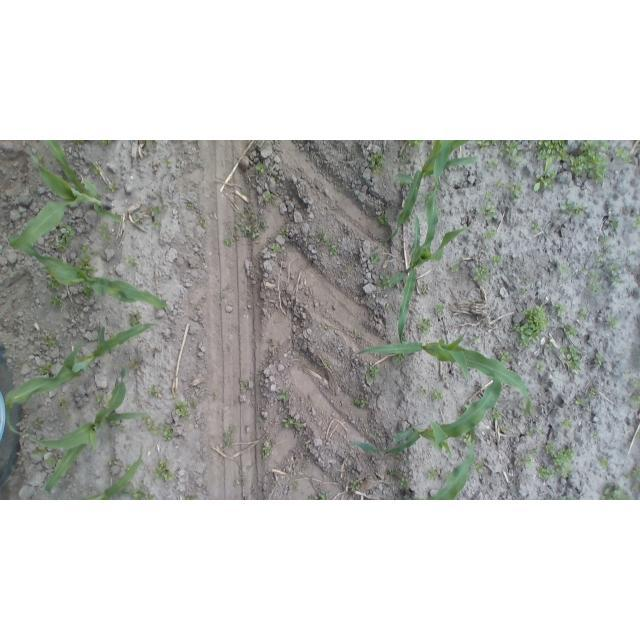Maize: (23, 360, 154, 496), (4, 323, 158, 433), (390, 141, 471, 348), (356, 333, 533, 419), (353, 362, 508, 456), (11, 141, 125, 248), (17, 234, 168, 309), (384, 141, 476, 244), (409, 428, 478, 500), (67, 441, 145, 499)
Weeds: (571, 141, 610, 184), (514, 306, 549, 346), (232, 202, 265, 241), (534, 160, 558, 192), (553, 447, 576, 478), (537, 141, 568, 162), (385, 466, 409, 489), (57, 224, 76, 253), (594, 234, 611, 266), (563, 344, 581, 372), (602, 484, 634, 499), (560, 201, 588, 218), (506, 141, 522, 168), (154, 460, 174, 481), (131, 485, 153, 500), (587, 272, 601, 294), (518, 451, 536, 468), (472, 266, 490, 283), (77, 256, 96, 272), (616, 148, 633, 164), (316, 228, 331, 246), (225, 425, 236, 449), (372, 152, 385, 172), (626, 391, 640, 409), (366, 365, 381, 381), (351, 326, 366, 342), (262, 189, 278, 204), (175, 402, 190, 418), (537, 466, 555, 479), (418, 317, 432, 333), (300, 438, 311, 458), (30, 444, 48, 456), (380, 274, 395, 288), (564, 322, 579, 336), (127, 358, 141, 373), (407, 141, 426, 152), (401, 489, 420, 500), (510, 182, 522, 199), (42, 334, 56, 348), (605, 316, 620, 329), (553, 492, 577, 500), (306, 492, 330, 500), (232, 475, 246, 488), (482, 228, 497, 240), (149, 205, 164, 217), (38, 362, 53, 374), (416, 382, 427, 398), (163, 424, 174, 440), (97, 220, 110, 233), (554, 302, 567, 315), (46, 453, 59, 466), (499, 350, 512, 363), (484, 204, 496, 218), (129, 313, 141, 327), (239, 379, 250, 394), (283, 418, 299, 428), (32, 417, 45, 429), (493, 253, 504, 267), (379, 213, 390, 227), (147, 420, 158, 434), (262, 442, 271, 459), (472, 462, 484, 474), (590, 431, 603, 442), (495, 177, 506, 190), (421, 284, 432, 297), (354, 397, 367, 408), (427, 468, 438, 481), (632, 466, 640, 483), (477, 141, 492, 150), (492, 408, 503, 420), (524, 425, 535, 437), (484, 190, 496, 201), (246, 460, 257, 472), (433, 390, 444, 402), (149, 386, 161, 397), (152, 218, 163, 230), (486, 159, 498, 170), (543, 443, 555, 454), (133, 213, 143, 226), (146, 140, 159, 150), (595, 352, 605, 365), (280, 389, 290, 402), (579, 308, 589, 321), (322, 360, 333, 371), (599, 456, 610, 467), (610, 264, 621, 275), (289, 480, 299, 492), (609, 217, 619, 229), (434, 303, 444, 315), (347, 448, 356, 461), (117, 423, 128, 433), (52, 297, 63, 307), (305, 261, 317, 270), (386, 300, 395, 312), (560, 264, 569, 276), (574, 397, 586, 406), (400, 151, 408, 164), (212, 392, 220, 405), (64, 411, 72, 424), (125, 256, 135, 266), (271, 243, 281, 253), (48, 279, 58, 289), (59, 398, 69, 408), (350, 481, 360, 491), (462, 433, 471, 444), (518, 288, 529, 297), (257, 163, 266, 174), (92, 165, 101, 176), (621, 369, 631, 378), (523, 273, 532, 283), (333, 186, 342, 196), (96, 393, 105, 403), (47, 236, 57, 245), (81, 242, 90, 252), (561, 419, 571, 428), (224, 238, 234, 247), (500, 424, 508, 435), (270, 477, 278, 488), (589, 388, 597, 399), (632, 215, 638, 229), (370, 254, 379, 263), (538, 428, 547, 437), (265, 337, 274, 346), (189, 401, 198, 410), (162, 158, 171, 167), (396, 355, 405, 364), (330, 245, 338, 255), (580, 268, 590, 276), (476, 205, 484, 215), (279, 228, 287, 238), (109, 182, 117, 192), (612, 277, 623, 284), (72, 141, 87, 146), (631, 483, 640, 491), (494, 289, 502, 298), (186, 494, 198, 500), (470, 334, 479, 342), (102, 233, 110, 242), (536, 362, 545, 370), (450, 263, 459, 271), (559, 346, 569, 353), (344, 265, 351, 275), (365, 427, 372, 437), (200, 216, 207, 226), (529, 407, 537, 415), (298, 422, 306, 430), (238, 188, 246, 196), (272, 174, 280, 182), (532, 222, 540, 230), (545, 342, 553, 350), (186, 202, 194, 210), (553, 208, 560, 217), (131, 397, 138, 406), (100, 140, 112, 145), (509, 484, 516, 492), (623, 472, 630, 480), (628, 250, 636, 257), (257, 415, 264, 423), (124, 465, 132, 472), (323, 323, 329, 332), (36, 155, 45, 161), (475, 298, 485, 303), (376, 435, 383, 442), (108, 459, 114, 467), (632, 378, 638, 386), (143, 416, 148, 424), (221, 294, 226, 300), (528, 215, 533, 221), (92, 250, 98, 255)
